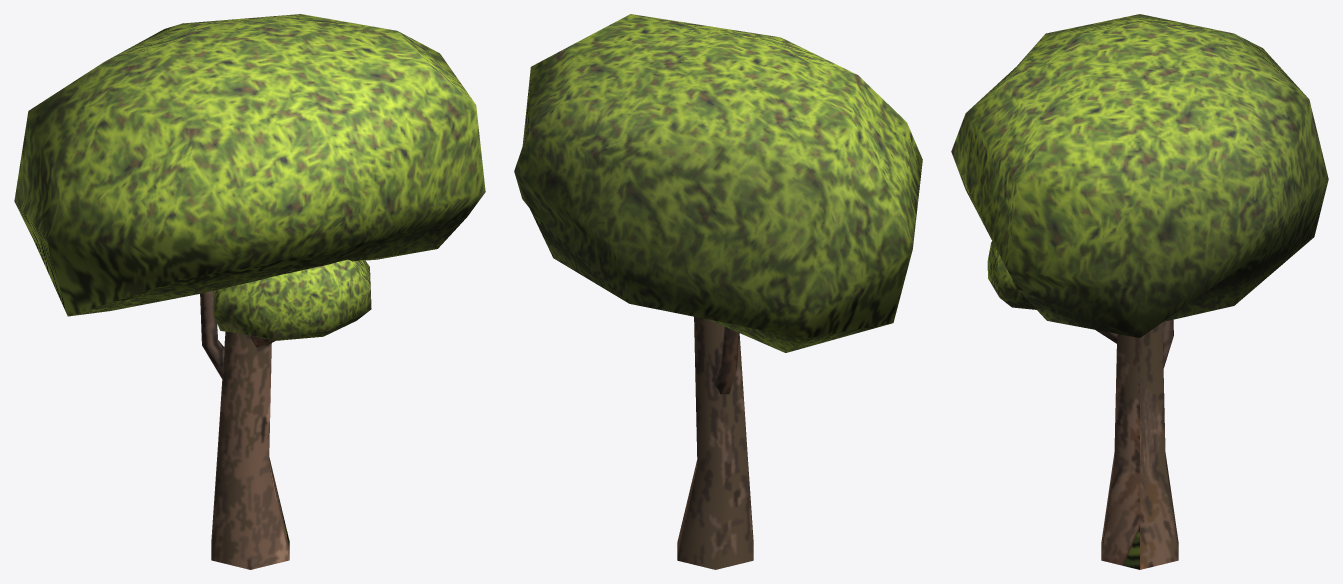
File: Tree1.fbx
3 renders of one model, left to right at view 1: azimuth 30°, elevation 25°; view 2: azimuth 150°, elevation 25°; view 3: azimuth 270°, elevation 25°, orthographic. The views are drawn at different scales.
Parts seen in each view (by area): view 1: pCylinder4; view 2: pCylinder4; view 3: pCylinder4.
Part boxes in pixels (x1,y1,x2,y2): pCylinder4: (14, 14, 485, 569); pCylinder4: (514, 14, 922, 569); pCylinder4: (951, 14, 1328, 569).
Bounding box in the file's own units: 1491 × 1803 × 1235.
